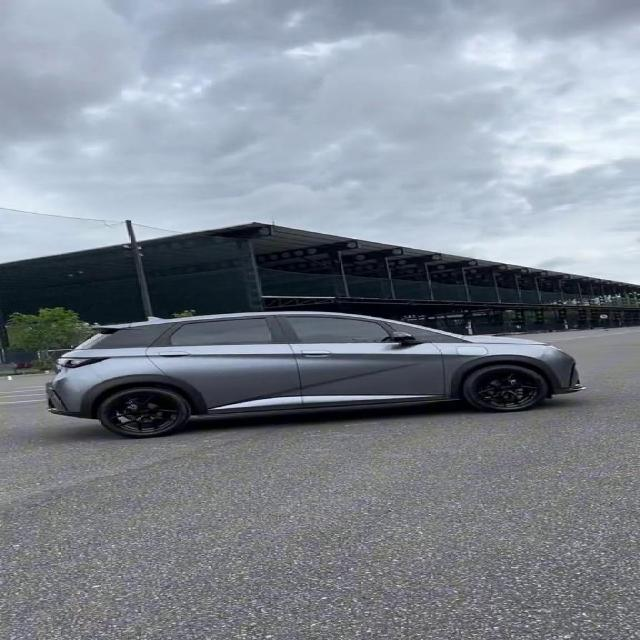Hatchback: (46, 311, 583, 438)
